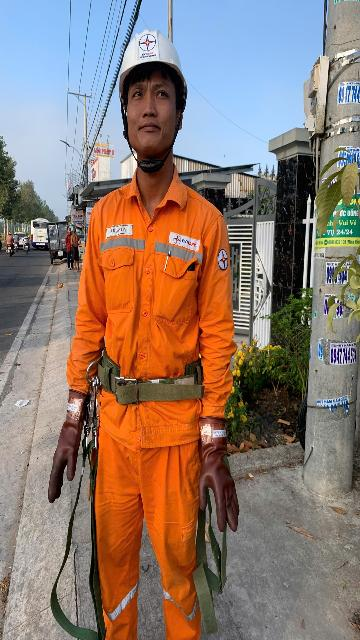gloves: (187, 412, 244, 526), (47, 398, 103, 506)
harness: (77, 347, 210, 421)
helmet: (101, 23, 196, 97)
